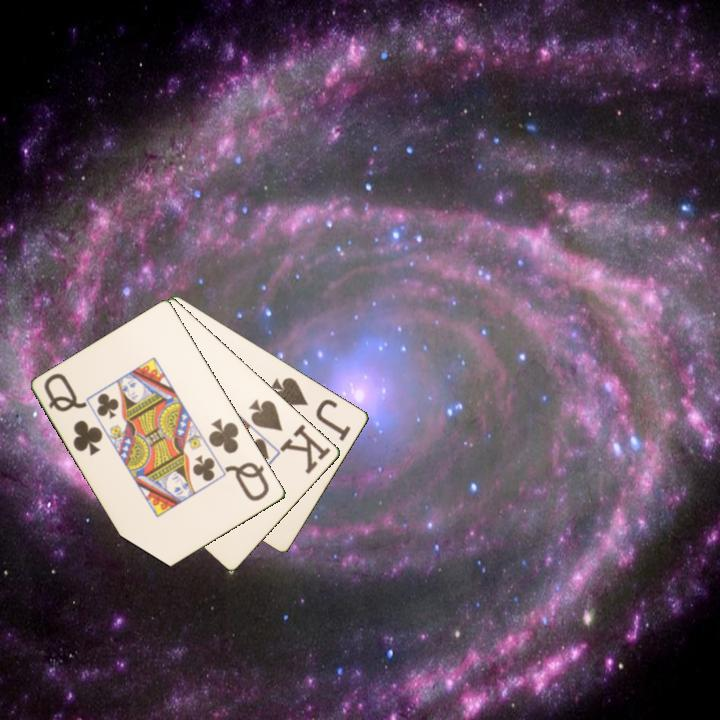Js: (267, 374, 354, 444)
Ks: (246, 395, 334, 477)
Qc: (205, 415, 273, 504), (40, 369, 106, 459)
